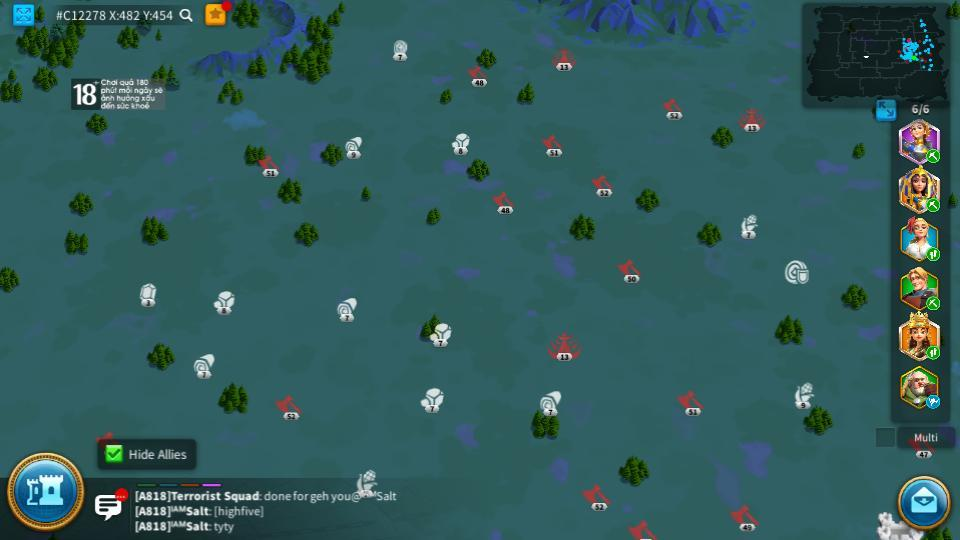gem-z-out: (139, 283, 157, 305), (391, 40, 409, 61)
march_idle: (925, 396, 942, 408)
march_marching: (925, 197, 942, 212), (925, 345, 941, 359), (925, 150, 941, 162), (925, 297, 942, 308)
